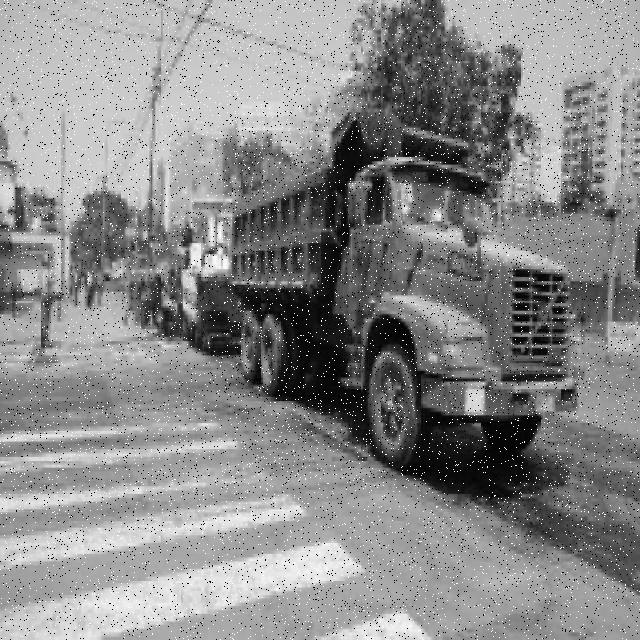Box Truck: (227, 112, 585, 475)
